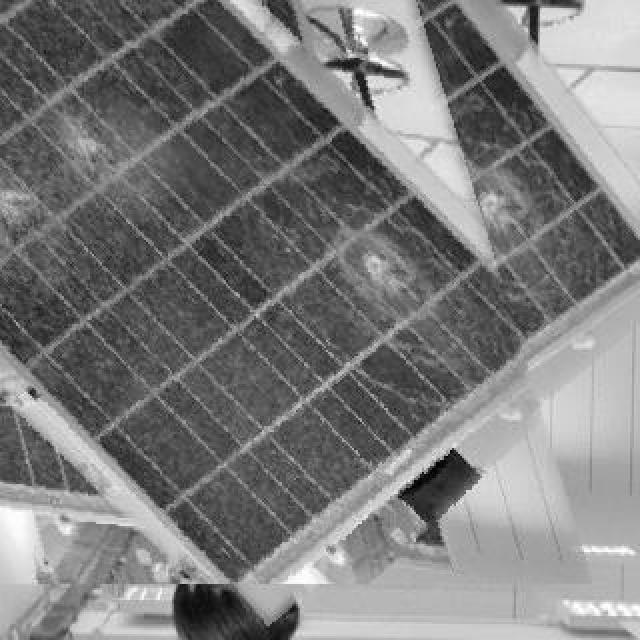Physical-damage: (328, 218, 422, 314), (458, 160, 533, 246), (48, 104, 116, 178), (0, 169, 41, 270)
